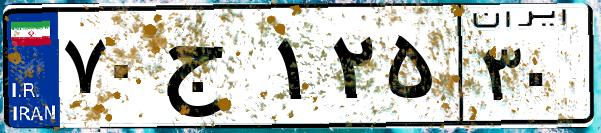0: (525, 38, 570, 115), (110, 28, 158, 98)
1: (270, 28, 330, 110)
2: (330, 28, 385, 110)
3: (475, 38, 525, 113)
5: (385, 28, 445, 110)
7: (57, 26, 110, 100)
ج: (158, 20, 270, 120)
